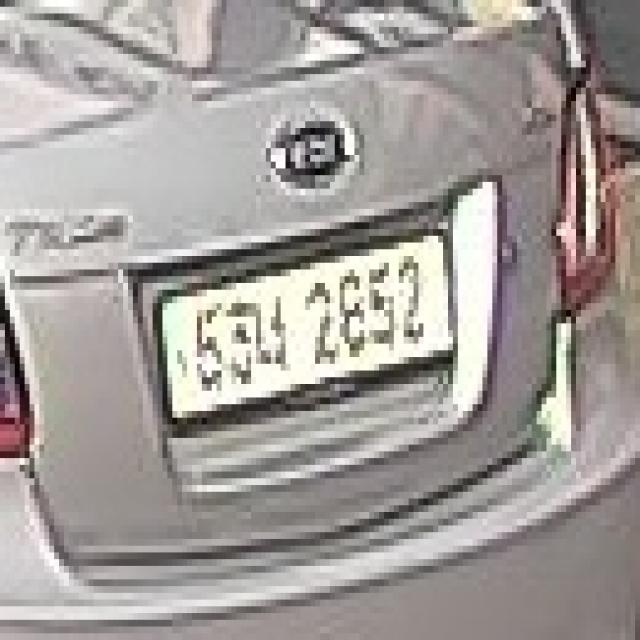2: (290, 270, 340, 378), (394, 242, 423, 350)
3: (222, 290, 256, 404)
5: (187, 296, 222, 398), (369, 250, 394, 350)
8: (345, 249, 369, 364)
license_plate: (152, 222, 462, 431)
neo: (246, 290, 291, 377)
